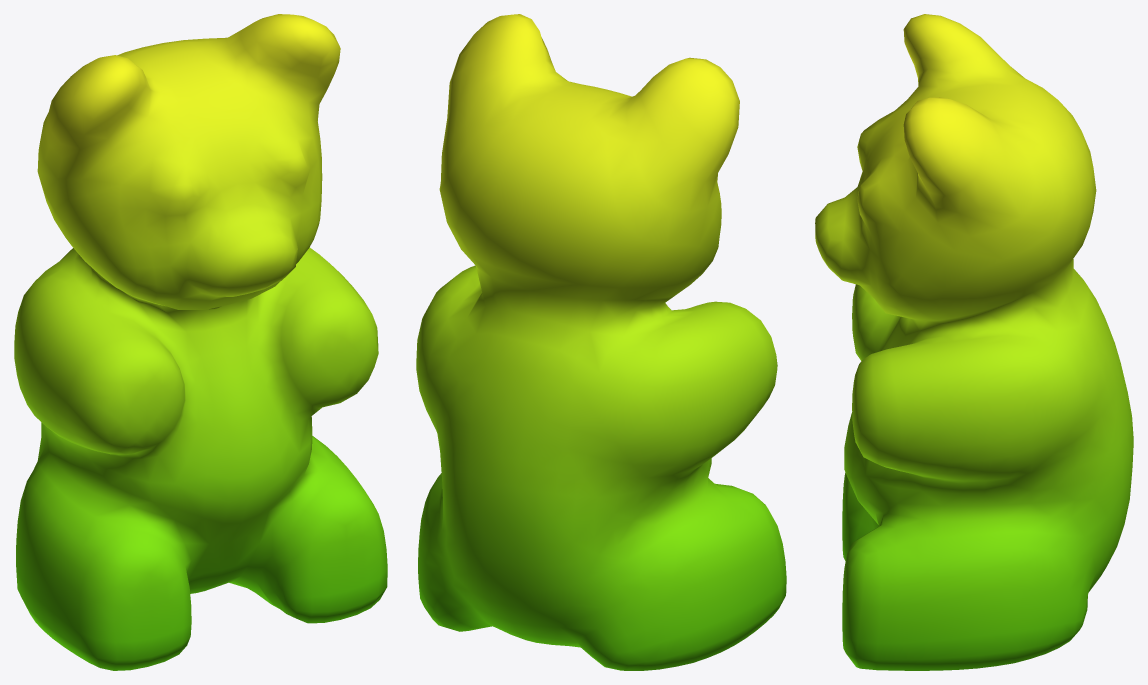
File: candy_glass_15.fbx
3 renders of one model, left to right at view 1: azimuth 30°, elevation 25°; view 2: azimuth 150°, elevation 25°; view 3: azimuth 270°, elevation 25°, orthographic. The views are drawn at different scales.
Parts seen in each view (by area): view 1: c_g_15; view 2: c_g_15; view 3: c_g_15.
Part boxes in pixels (bbox=[...]): c_g_15: bbox=[14, 14, 387, 670]; c_g_15: bbox=[416, 14, 786, 670]; c_g_15: bbox=[815, 14, 1133, 670].
Size of the model in its own units: 139 by 245 by 129.
